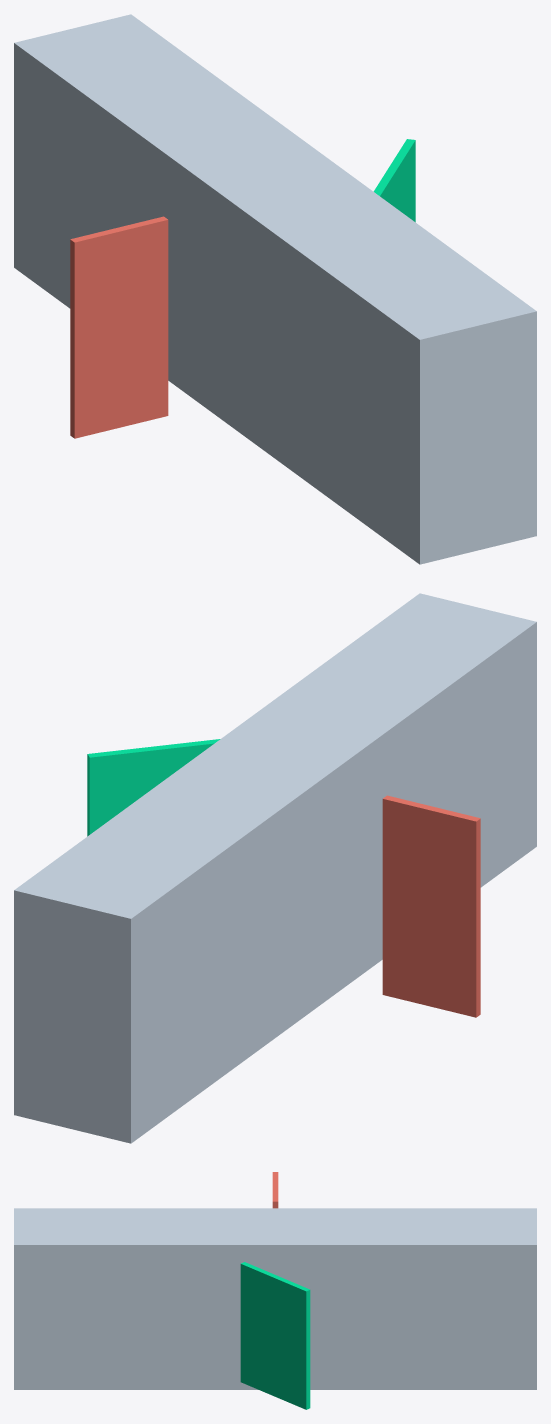
The model's file is rcc_beam_shear_design_stirrups.glb.
3 views of the same model, one above another, from view 1: azimuth 30°, elevation 25°; view 2: azimuth 150°, elevation 25°; view 3: azimuth 270°, elevation 25° (orthographic). The views are drawn at different scales.
Visible parts, largest first — view 1: ConcreteBeamShearSpan, TwoLeggedVerticalShearStirrups, Diagonal45DegreeShearCrackPlane; view 2: ConcreteBeamShearSpan, TwoLeggedVerticalShearStirrups, Diagonal45DegreeShearCrackPlane; view 3: ConcreteBeamShearSpan, Diagonal45DegreeShearCrackPlane.
Boxes of the visible parts, x1,y1,x2,y2 form: ConcreteBeamShearSpan: [14, 14, 536, 564]; TwoLeggedVerticalShearStirrups: [70, 216, 168, 438]; Diagonal45DegreeShearCrackPlane: [373, 139, 415, 222]; ConcreteBeamShearSpan: [14, 593, 536, 1143]; TwoLeggedVerticalShearStirrups: [382, 795, 480, 1017]; Diagonal45DegreeShearCrackPlane: [87, 739, 220, 836]; ConcreteBeamShearSpan: [14, 1208, 536, 1389]; Diagonal45DegreeShearCrackPlane: [240, 1262, 310, 1409].
Bounding box in the file's own units: 0.9402 × 0.55 × 1.8.
